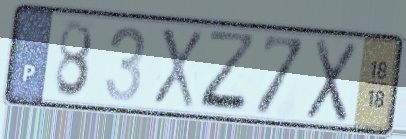3: (103, 23, 148, 104)
7: (255, 32, 307, 119)
8: (52, 18, 95, 101)
X: (303, 35, 361, 126), (150, 25, 204, 111)
Z: (197, 27, 261, 116)
